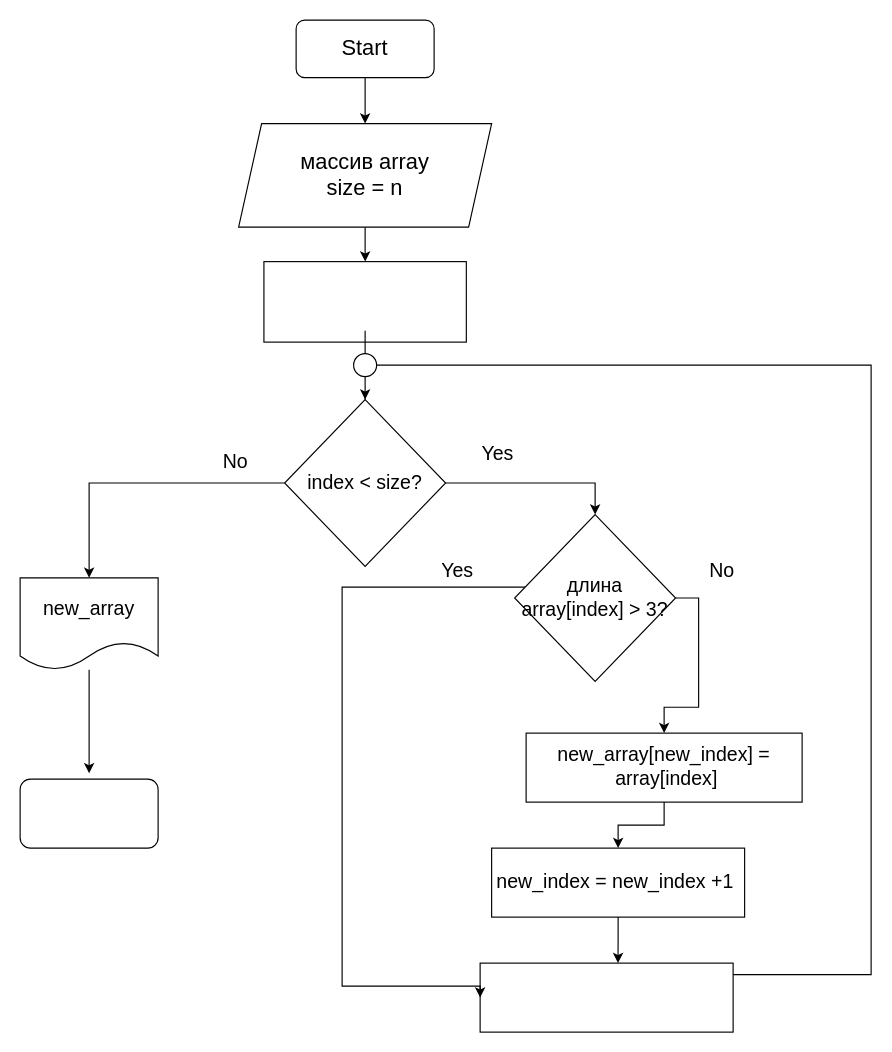
This 892x1052 diagram has some shape labels left out. Each missing label, with the centre of its shape:
End: point 88,813
index = index +1: point 606,997
массив new_array index = 0 new_index = 0: point 364,301
